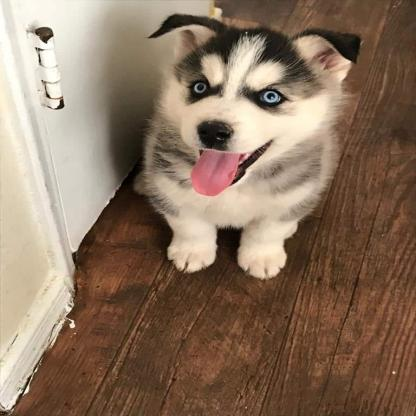dog: (136, 15, 362, 279)
